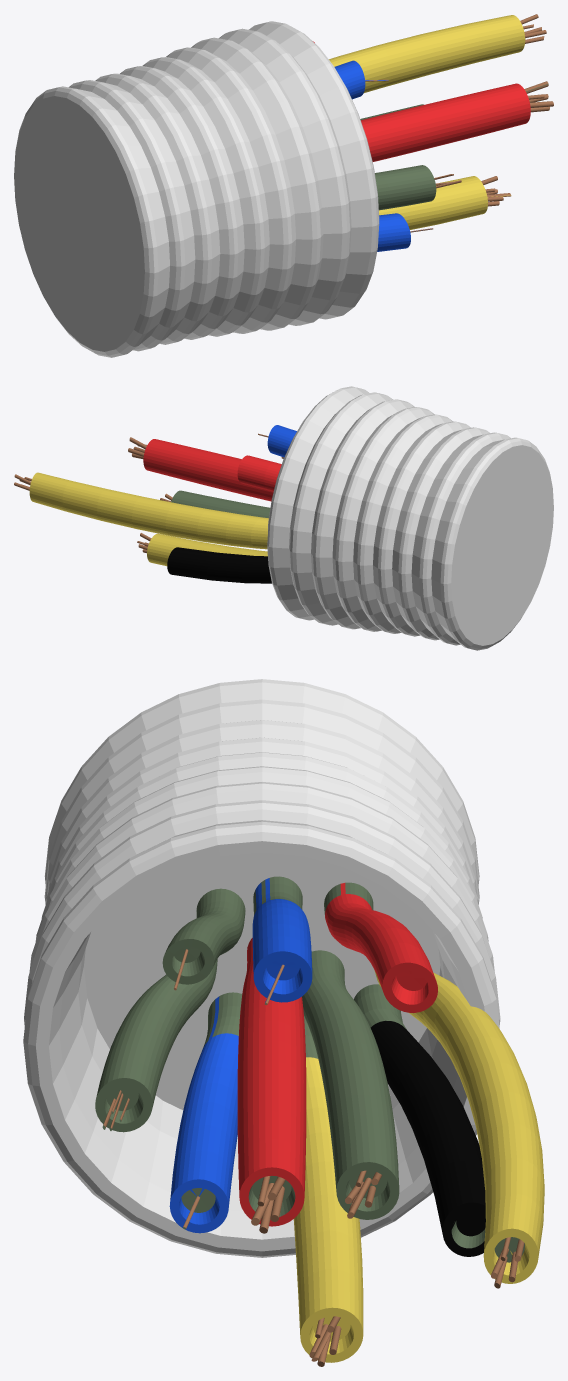
File: fio_ponta.fbx
3 views of the same model, one above another, from view 1: azimuth 30°, elevation 25°; view 2: azimuth 150°, elevation 25°; view 3: azimuth 270°, elevation 25° (orthographic). The views are drawn at different scales.
Visible parts, largest first — view 1: Cylinder, Cylinder.001; view 2: Cylinder, Cylinder.001; view 3: Cylinder, Cylinder.001.
Part boxes in pixels (x1,y1,x2,y2): Cylinder: [14, 21, 379, 357]; Cylinder.001: [313, 14, 553, 251]; Cylinder: [267, 386, 553, 650]; Cylinder.001: [14, 425, 296, 583]; Cylinder: [23, 679, 500, 1257]; Cylinder.001: [95, 876, 544, 1366].
Size of the model in its own units: 478 by 232 by 254.
